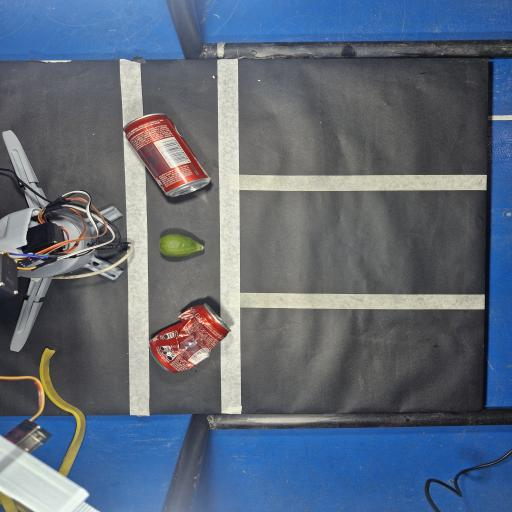higo: (159, 234, 203, 257)
lata: (124, 113, 210, 196)
lata_defectuoso: (150, 304, 230, 372)
